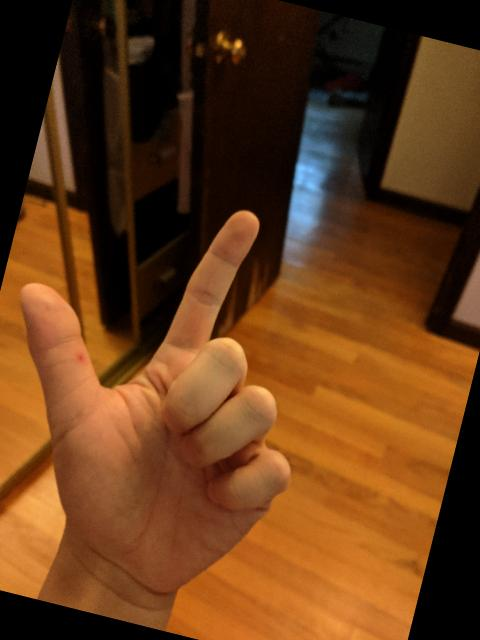L: (0, 153, 362, 610)
